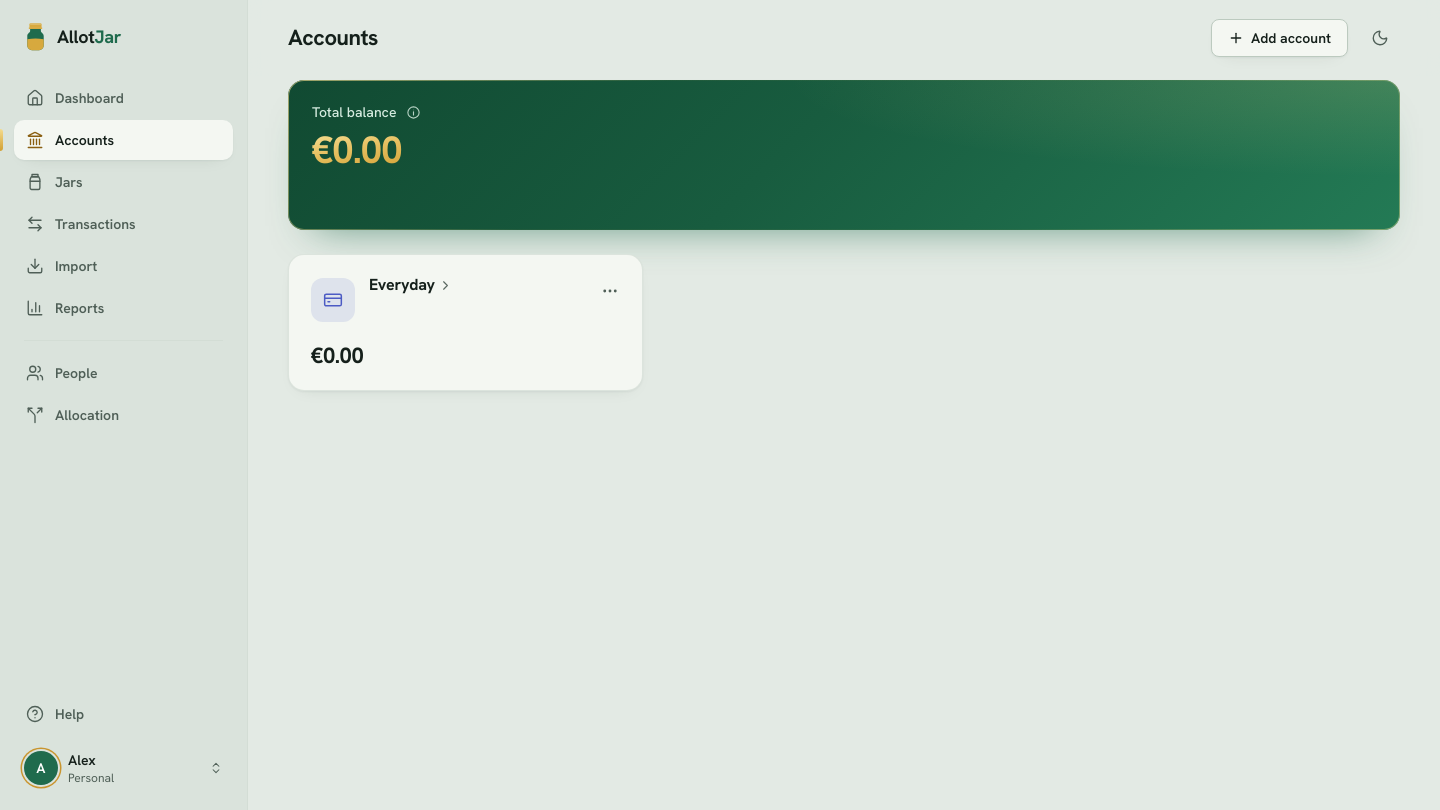
Test case: role gating › owner sees full account management
This screenshot has width=1440, height=810.
Expected: the button "Add account" is shown, [1211, 19, 1348, 57]
Note: The card's ⋯ offers the edit and the delete.
Click the button named "Everyday: more actions" at (610, 291), box [590, 271, 630, 311]
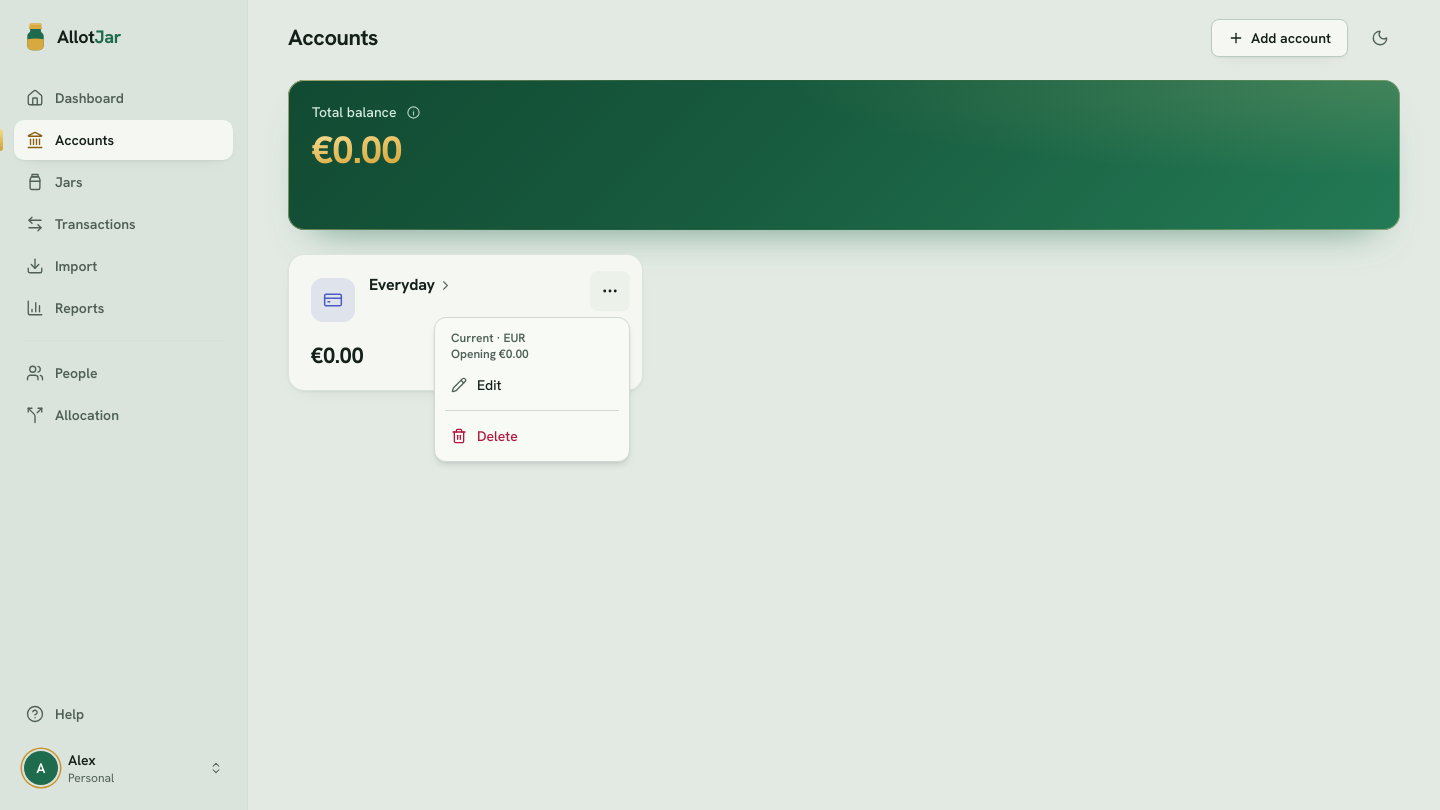
Now the menu item with aria-label "Edit Everyday" is shown, box [451, 376, 501, 394]
Now the menu item with aria-label "Delete Everyday" is shown, box [451, 427, 518, 445]
